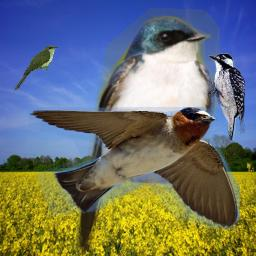Cuckoo: (14, 45, 58, 91)
Swallow: (77, 7, 220, 255), (28, 107, 240, 229)
Woodpecker: (208, 53, 245, 140)
